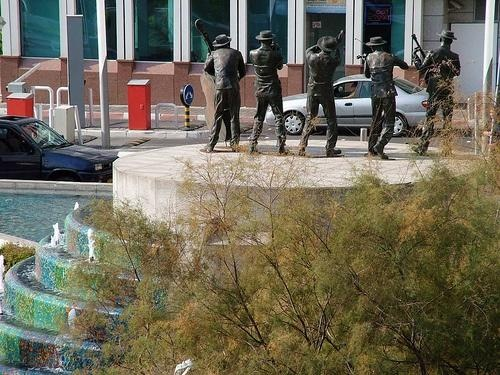car: (264, 75, 438, 136), (1, 117, 117, 181)
